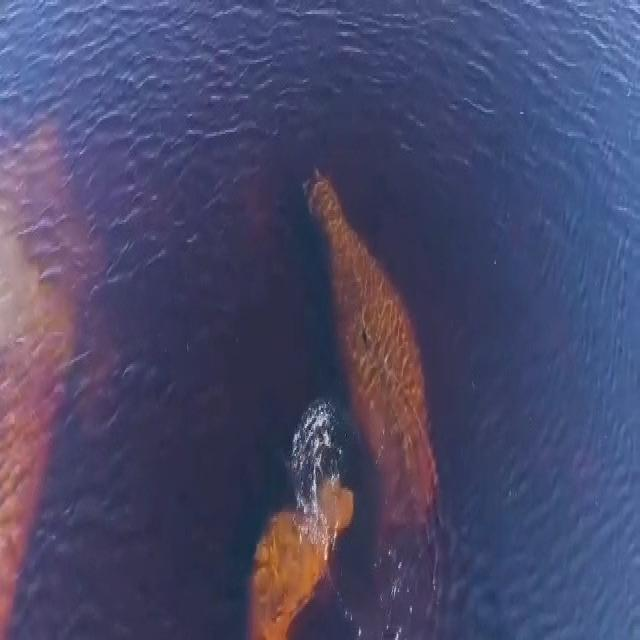Hippopotamus: (296, 166, 436, 524), (251, 479, 347, 640)
